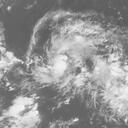cyclone: (32, 26, 102, 99)
